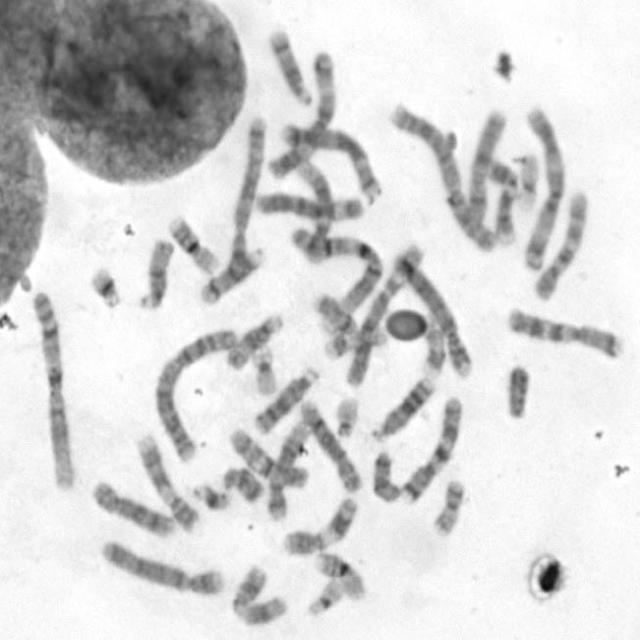A1: (286, 222, 385, 331), (27, 285, 78, 494)
A2: (386, 100, 504, 253), (150, 323, 238, 466)
A3: (264, 42, 345, 182), (518, 103, 567, 274)
B4: (388, 241, 475, 380), (96, 534, 227, 598)
B5: (276, 117, 384, 201), (220, 113, 272, 264)
C10: (530, 186, 593, 304), (225, 425, 310, 490)
C11: (279, 492, 359, 558), (227, 562, 290, 628)
C12: (284, 146, 340, 262), (264, 417, 312, 522)
C6: (342, 233, 429, 384), (252, 187, 366, 222)
C7: (396, 391, 463, 505), (504, 304, 624, 361)
C8: (296, 396, 364, 495), (87, 476, 176, 540)
C9: (134, 429, 200, 534), (485, 156, 525, 261)
D13: (250, 362, 320, 435), (368, 372, 437, 443)
D14: (196, 243, 266, 307), (264, 24, 312, 109)
D15: (222, 310, 284, 371), (135, 236, 175, 311)
E16: (164, 209, 220, 276), (312, 546, 366, 602)
E17: (320, 322, 390, 362), (310, 292, 360, 339)
E18: (368, 446, 402, 504), (220, 461, 264, 505)
F19: (514, 149, 541, 213), (249, 343, 278, 398)
F20: (429, 475, 467, 538), (424, 325, 445, 378)
G21: (85, 261, 124, 310), (190, 479, 232, 512)
G22: (303, 575, 345, 618), (331, 392, 360, 439)
X: (464, 113, 507, 229)
Y: (502, 362, 532, 419)
